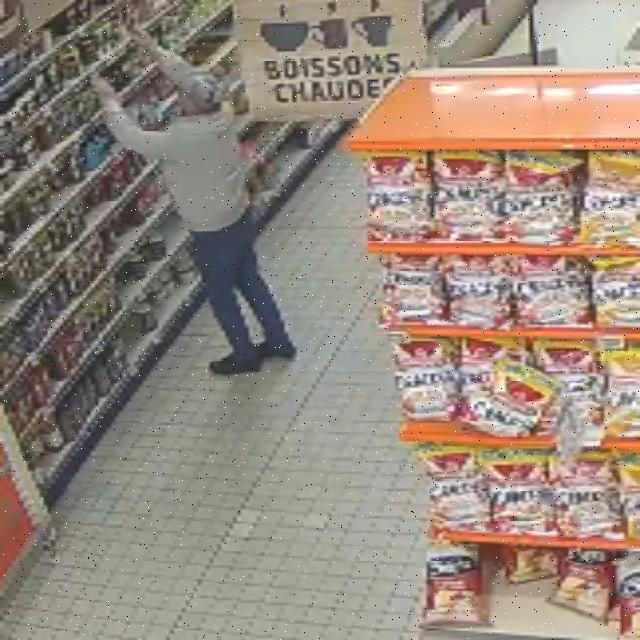hands: (129, 27, 156, 55), (91, 76, 118, 104)
person: (93, 32, 295, 375)
